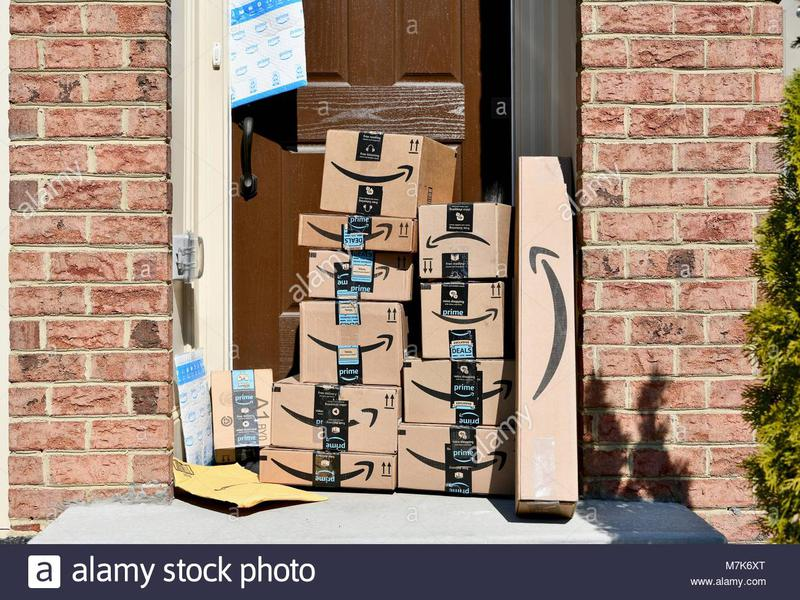package: (511, 151, 588, 530), (316, 120, 461, 224), (267, 377, 402, 456), (295, 298, 412, 389), (163, 457, 334, 516), (394, 424, 516, 499), (412, 198, 512, 283), (233, 7, 313, 113), (412, 280, 515, 362), (401, 358, 516, 429), (254, 447, 399, 499), (207, 362, 279, 460), (165, 343, 215, 475), (294, 204, 417, 257), (303, 248, 417, 303)
